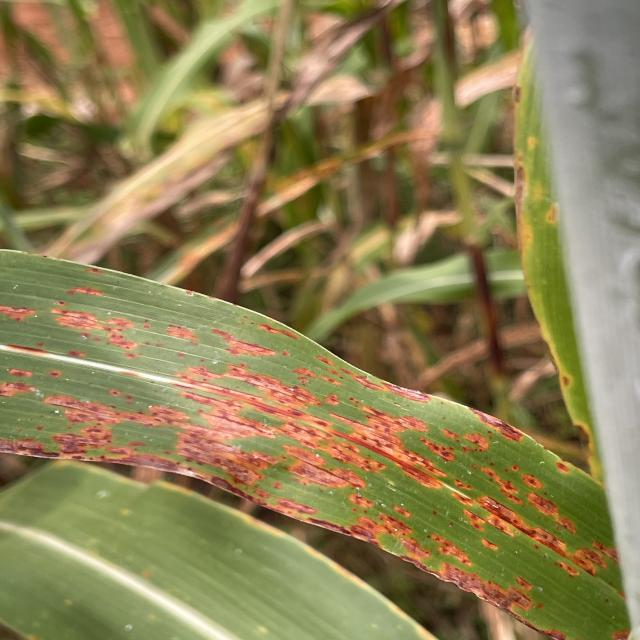millet_healthy: (0, 461, 436, 640)
millet_rust: (0, 250, 628, 639), (0, 78, 364, 273)
